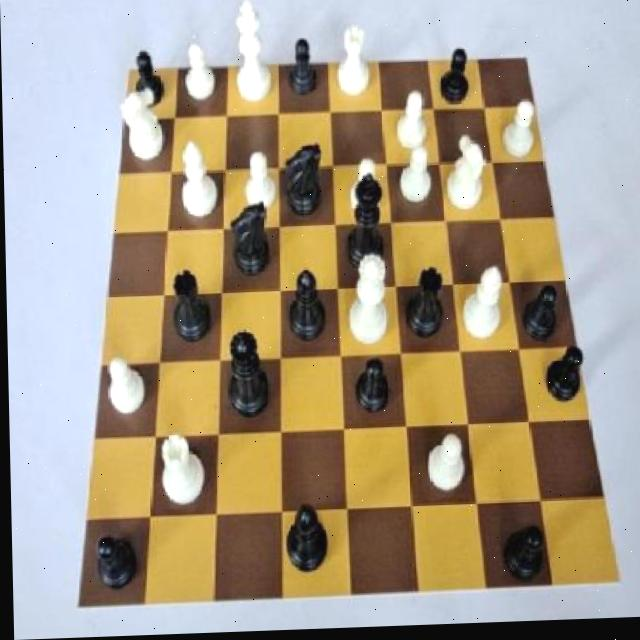bishop: (280, 490, 330, 590), (282, 260, 329, 345)
black-bishop: (339, 170, 393, 277)
black-king: (275, 135, 329, 228), (222, 189, 275, 282)
black-knight: (84, 516, 138, 604), (496, 517, 552, 596), (533, 342, 590, 414), (511, 283, 565, 351), (348, 349, 394, 425), (437, 46, 478, 120), (280, 33, 321, 107), (125, 46, 170, 113)
black-pawn: (223, 322, 271, 429)
black-queen: (397, 261, 451, 350), (165, 259, 212, 350)
black-rook: (172, 134, 223, 227), (456, 262, 506, 356)
white-bishop: (225, 0, 276, 113)
white-king: (114, 83, 169, 172), (439, 135, 492, 222)
white-knight: (99, 346, 149, 425), (418, 425, 466, 501), (493, 97, 541, 169), (388, 89, 432, 159), (235, 146, 279, 216), (340, 158, 386, 224), (393, 146, 436, 209), (176, 41, 217, 105)
white-pawn: (341, 249, 394, 356)
white-queen: (149, 422, 206, 520), (330, 20, 374, 105)
